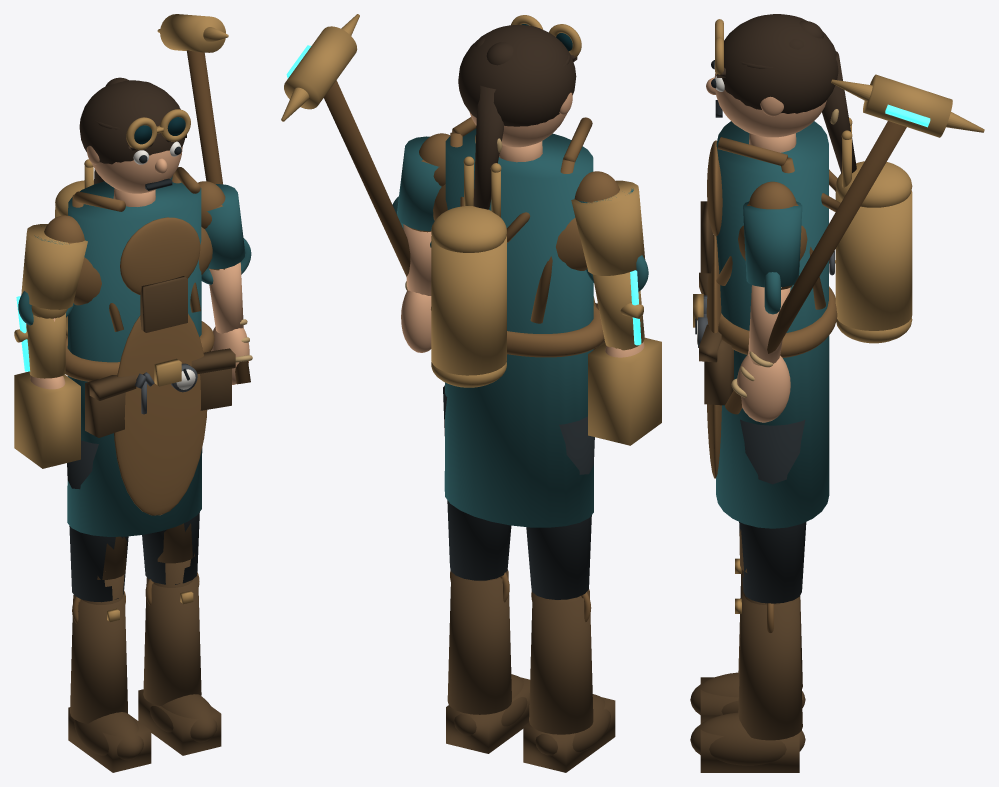
The model's file is 3D模型 char_tinkerer.glb.
The picture shows the model from 3 angles, left to right: view 1: azimuth 30°, elevation 25°; view 2: azimuth 150°, elevation 25°; view 3: azimuth 270°, elevation 25°; orthographic projection. The views are drawn at different scales.
Parts seen in each view (by area): view 1: char_tinkerer_shirt, char_tinkerer_apronpanel, char_tinkerer_boot_R, char_tinkerer_boot_L, char_tinkerer_mechhand_L, char_tinkerer_hair, char_tinkerer_apronbib, char_tinkerer_mechU_L, char_tinkerer_pant_L, char_tinkerer_pickshaft, char_tinkerer_sleeve_R, char_tinkerer_apronpocket (+29 smaller); view 2: char_tinkerer_shirt, char_tinkerer_tank, char_tinkerer_hair, char_tinkerer_boot_L, char_tinkerer_boot_R, char_tinkerer_mechhand_L, char_tinkerer_pant_L, char_tinkerer_mechU_L, char_tinkerer_pant_R, char_tinkerer_pickshaft, char_tinkerer_pickhead, char_tinkerer_tanktop (+17 smaller); view 3: char_tinkerer_shirt, char_tinkerer_tank, char_tinkerer_hair, char_tinkerer_boot_R, char_tinkerer_pant_R, char_tinkerer_pickshaft, char_tinkerer_sleeve_R, char_tinkerer_pickhead, char_tinkerer_bootfoot_R, char_tinkerer_hand_R, char_tinkerer_head, char_tinkerer_belt (+16 smaller).
Boxes of the visible parts, x1,y1,x2,y2 form: char_tinkerer_shirt: [67, 176, 201, 536]; char_tinkerer_apronpanel: [114, 313, 207, 515]; char_tinkerer_boot_R: [143, 575, 201, 705]; char_tinkerer_boot_L: [70, 593, 127, 723]; char_tinkerer_mechhand_L: [14, 371, 80, 468]; char_tinkerer_hair: [79, 80, 184, 164]; char_tinkerer_apronbib: [120, 217, 200, 294]; char_tinkerer_mechU_L: [21, 224, 87, 309]; char_tinkerer_pant_L: [67, 440, 128, 602]; char_tinkerer_pickshaft: [187, 50, 250, 384]; char_tinkerer_sleeve_R: [205, 184, 245, 269]; char_tinkerer_apronpocket: [140, 276, 187, 332]; char_tinkerer_shirt: [444, 128, 593, 527]; char_tinkerer_tank: [431, 236, 506, 375]; char_tinkerer_hair: [458, 25, 576, 126]; char_tinkerer_boot_L: [529, 589, 593, 734]; char_tinkerer_boot_R: [447, 569, 511, 714]; char_tinkerer_mechhand_L: [588, 337, 661, 445]; char_tinkerer_pant_L: [526, 416, 594, 599]; char_tinkerer_mechU_L: [571, 180, 645, 275]; char_tinkerer_pant_R: [443, 385, 511, 580]; char_tinkerer_pickshaft: [324, 80, 410, 277]; char_tinkerer_pickhead: [284, 26, 357, 109]; char_tinkerer_tanktop: [431, 206, 506, 252]; char_tinkerer_shirt: [716, 121, 829, 528]; char_tinkerer_tank: [835, 190, 912, 330]; char_tinkerer_hair: [716, 14, 838, 113]; char_tinkerer_boot_R: [738, 592, 802, 740]; char_tinkerer_pant_R: [739, 419, 806, 603]; char_tinkerer_pickshaft: [725, 121, 906, 414]; char_tinkerer_sleeve_R: [743, 201, 802, 287]; char_tinkerer_pickhead: [863, 74, 952, 137]; char_tinkerer_bootfoot_R: [690, 712, 805, 765]; char_tinkerer_hand_R: [737, 354, 790, 422]; char_tinkerer_head: [714, 73, 826, 137]; char_tinkerer_belt: [718, 286, 837, 357].
Size of the model in its own units: 0.7295 by 1.79 by 0.6536.
